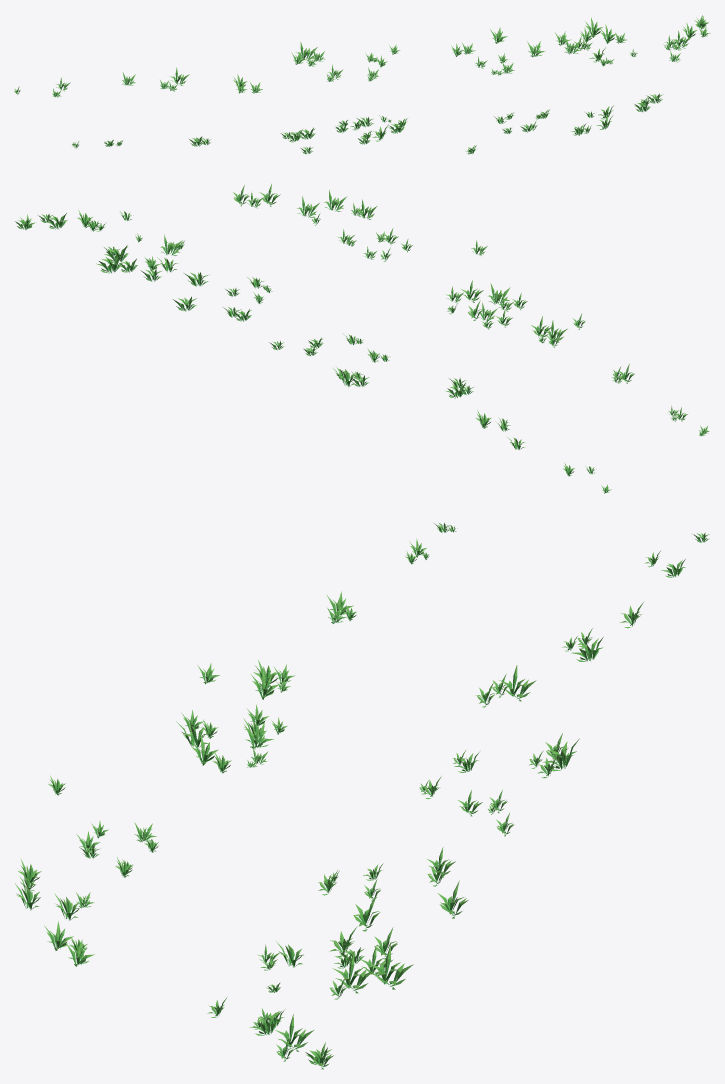
File: Area_12_2.fbx
3 renders of one model, top to bottom at view 1: azimuth 30°, elevation 25°; view 2: azimuth 150°, elevation 25°; view 3: azimuth 270°, elevation 25°, orthographic. The views are drawn at different scales.
Parts seen in each view (by area): view 1: Area_12_2; view 2: Area_12_2; view 3: Area_12_2.
Boxes of the visible parts, <box> form: Area_12_2: <box>14,15,710,154</box>; Area_12_2: <box>15,184,709,493</box>; Area_12_2: <box>15,523,709,1069</box>.
Bounding box in the file's own units: 4015 × 118 × 2174.
